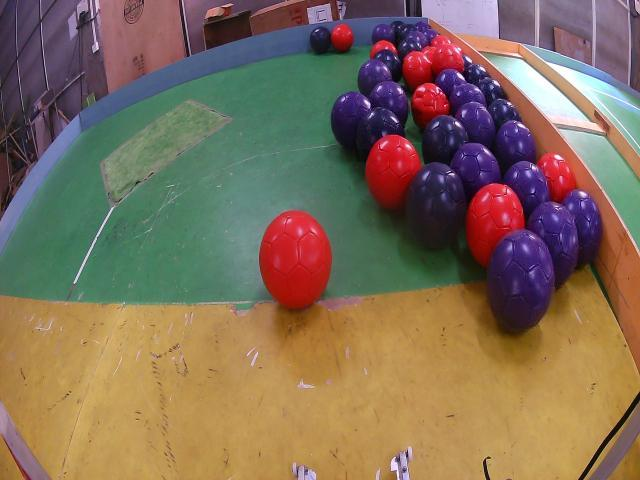jambhalya: (487, 230, 554, 331), (527, 201, 578, 287), (562, 190, 602, 267), (450, 144, 501, 203), (504, 161, 551, 220), (330, 92, 371, 149), (494, 120, 536, 172), (369, 81, 409, 126), (456, 104, 495, 149), (358, 58, 392, 97), (450, 85, 486, 116), (436, 68, 467, 100), (399, 31, 429, 60), (371, 24, 395, 44), (424, 29, 439, 43), (415, 22, 431, 33)
kaalyya: (406, 162, 466, 248), (356, 108, 405, 162), (421, 115, 469, 165), (487, 98, 520, 131), (374, 50, 402, 83), (477, 78, 505, 107), (399, 39, 422, 63), (310, 27, 331, 53), (464, 65, 489, 85), (390, 20, 405, 39), (400, 25, 416, 40), (463, 54, 472, 68)
